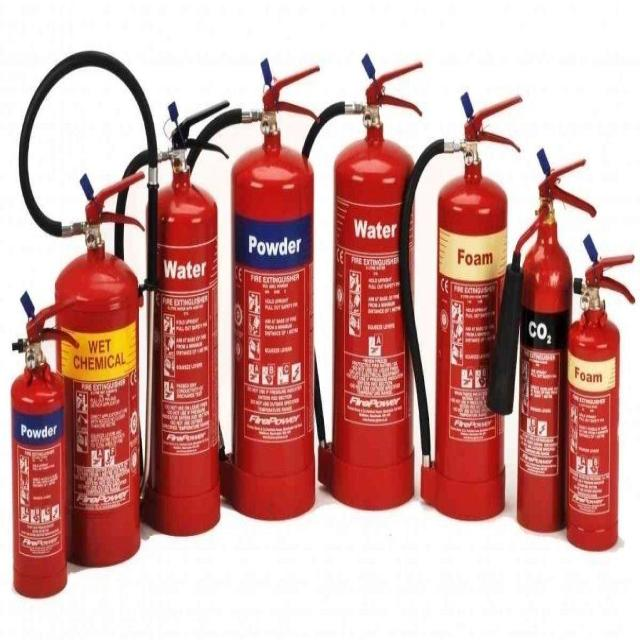fire_extinguisher: (15, 44, 164, 576), (175, 48, 323, 528), (291, 40, 428, 516), (396, 80, 528, 526), (109, 89, 234, 549), (482, 144, 598, 540), (558, 230, 638, 566), (5, 274, 84, 611)
